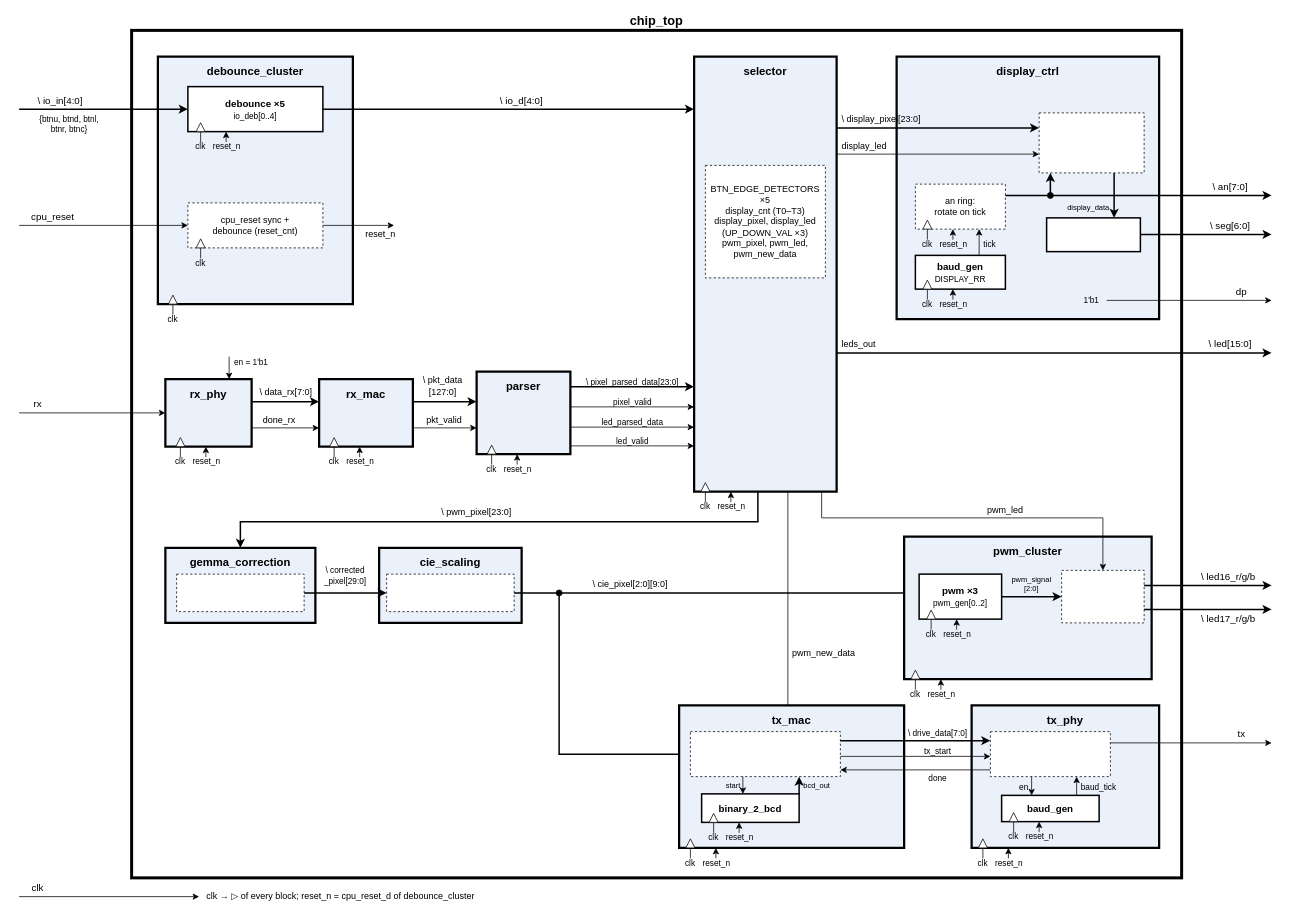
Image size: 1291x917. Some labels were removed from this diagram. Here are the shapes that lost their labels. From the top down, the centre of each, then its label:
At point 1091,142: "digit select: unique case (an)".
At point 1093,234: "seven_segment".
At point 240,592: "gamma_table[0:255] ×3 (black_magic_box.sv)".
At point 450,592: "SH_UP / SH_DOWN, R>>1, G, B>>3+B>>4+B>>7".
At point 1102,596: "pwm_led = 0: led16 pwm_led = 1: led17".
At point 765,754: "FSM IDLE / TRANSMIT, group_cnt, element_cnt, byte select".
At point 1050,754: "FSM IDLE / TRANSMIT, cnt, sh_reg[9:0]".
